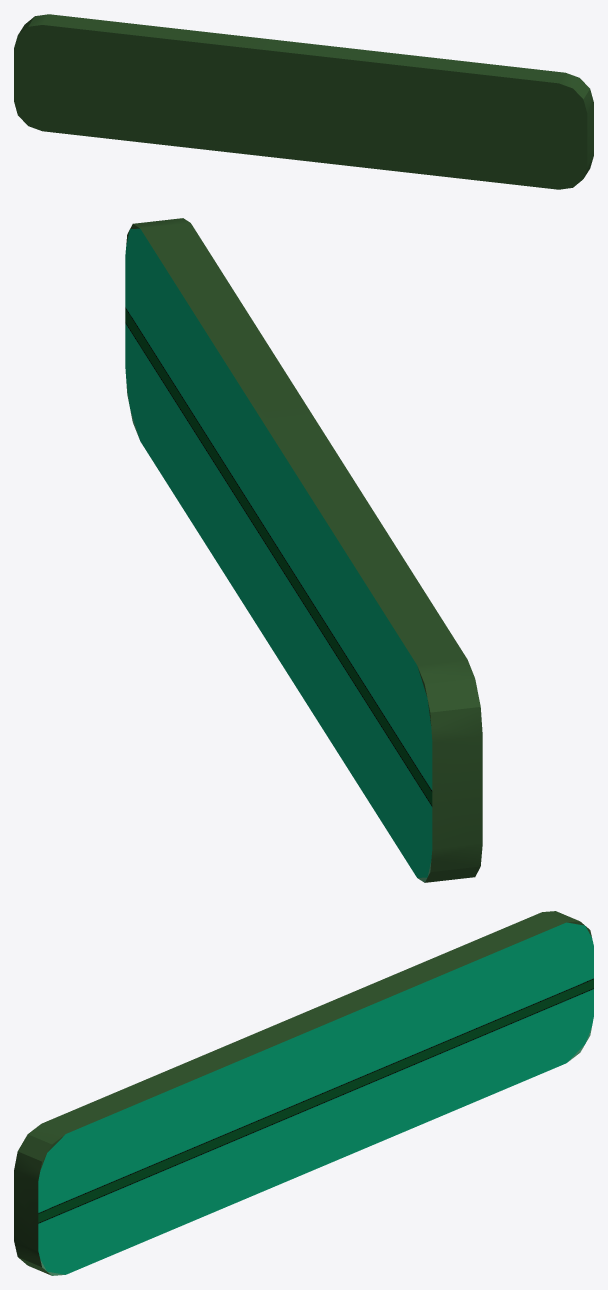
File: pantalla.obj
3 views of the same model, one above another, from view 1: azimuth 30°, elevation 25°; view 2: azimuth 150°, elevation 25°; view 3: azimuth 270°, elevation 25° (orthographic). The views are drawn at different scales.
Visible parts, largest first — view 1: polySurface179 pCylinder24; view 2: polySurface179 pCylinder24; view 3: polySurface179 pCylinder24.
Part boxes in pixels (x1,y1,x2,y2): polySurface179 pCylinder24: (14,14,593,189); polySurface179 pCylinder24: (125,218,482,882); polySurface179 pCylinder24: (14,911,593,1275).
Bounding box in the file's own units: 0.8388 × 0.2247 × 0.8388.
2 materials, 2 textured.
